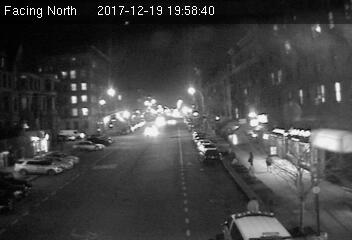pedestrian: (262, 150, 275, 174), (246, 151, 255, 170)
police: (214, 209, 317, 240)
